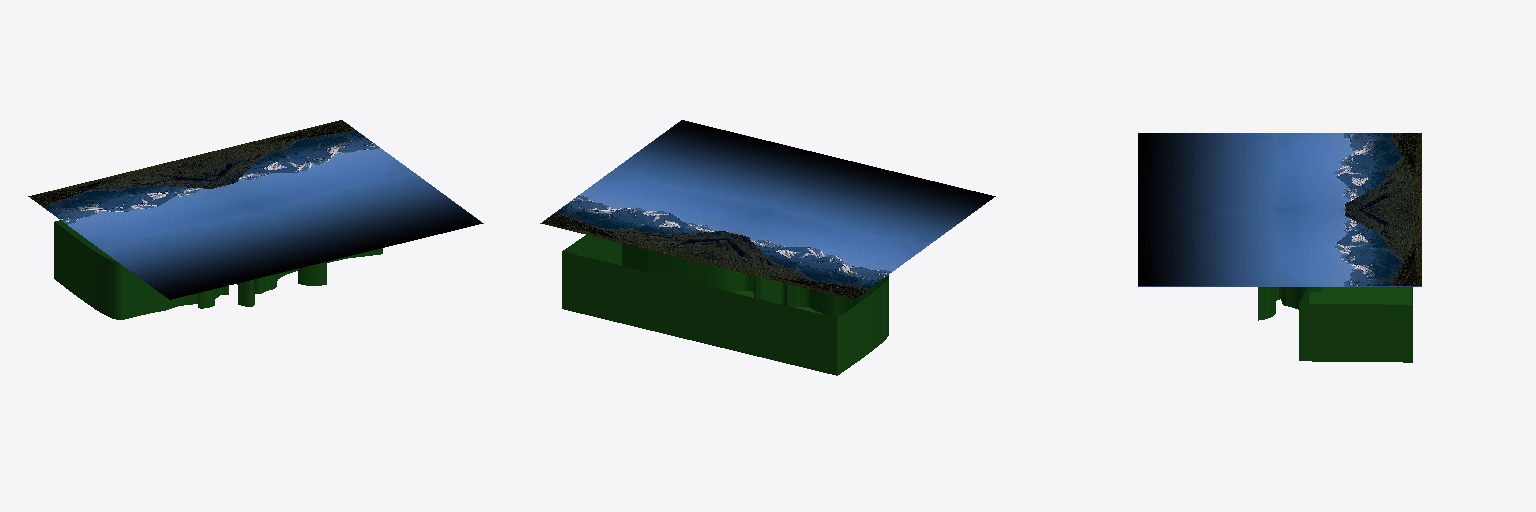
The picture shows the model from 3 angles: view 1: azimuth 30°, elevation 25°; view 2: azimuth 150°, elevation 25°; view 3: azimuth 270°, elevation 25°; orthographic projection.
Parts seen in each view (by area): view 1: Plane01, Line01, Line04; view 2: Plane01, Line01; view 3: Plane01, Line01, Line04.
Part boxes in pixels (left/top/right/bottom): Plane01: left=28, top=120, right=483, bottom=299; Line01: left=54, top=220, right=382, bottom=319; Line04: left=298, top=262, right=326, bottom=285; Plane01: left=540, top=120, right=995, bottom=299; Line01: left=562, top=235, right=888, bottom=375; Plane01: left=1138, top=133, right=1421, bottom=286; Line01: left=1279, top=287, right=1412, bottom=362; Line04: left=1258, top=287, right=1275, bottom=320.
Bounding box in the file's own units: 114 × 31.99 × 89.1.
Materials: 2 (1 with a texture image).